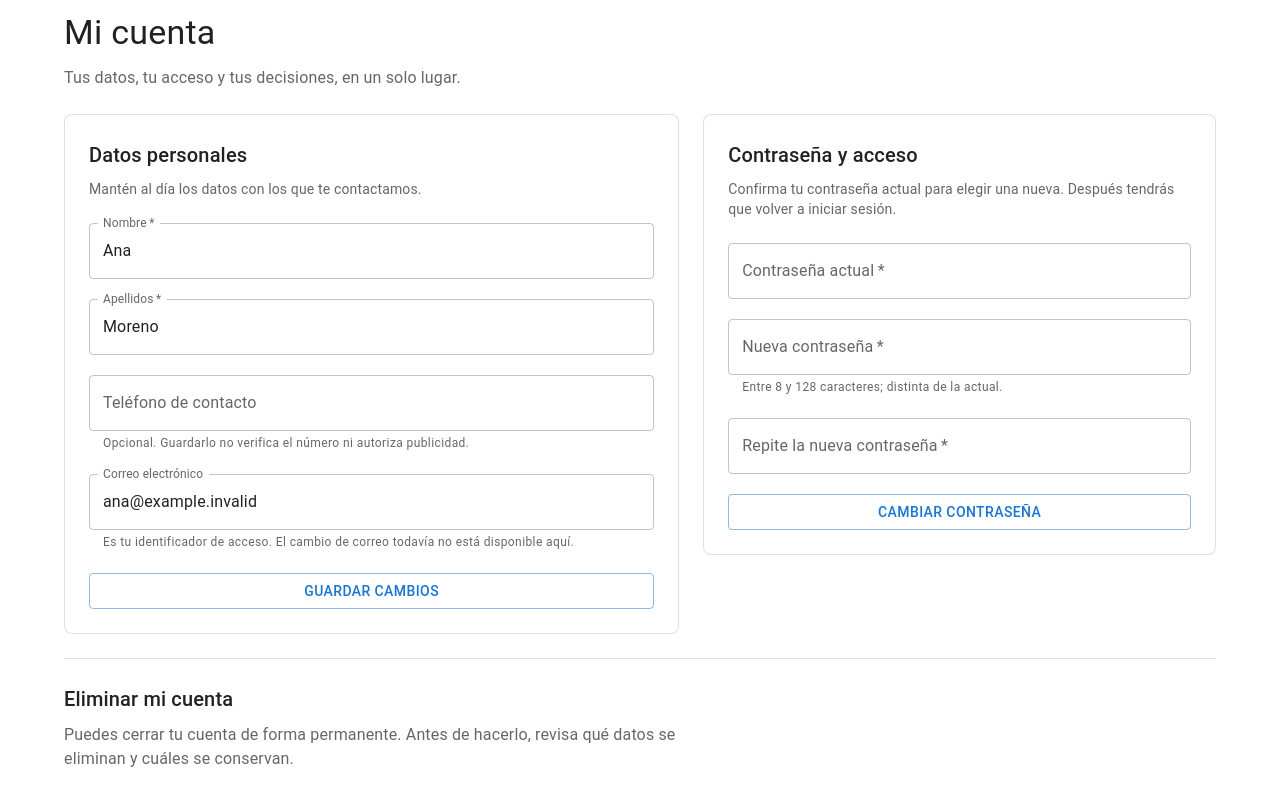
Test case: saves typed profile data and updates session display
Replace the text in the field labelled "Nombre" with "Diana" at (372, 251), box left=89, top=223, right=654, bottom=279
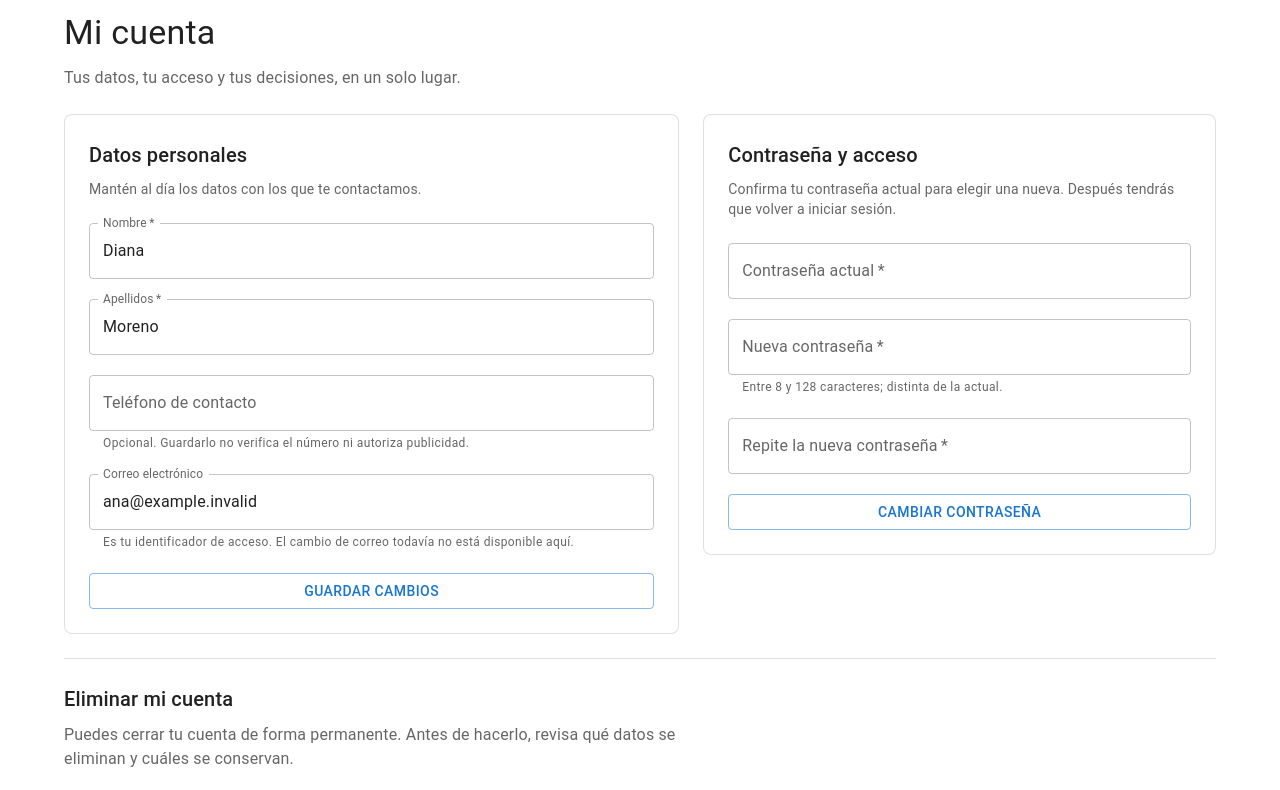
Click the button "Guardar cambios" at (372, 591), box left=89, top=573, right=654, bottom=609
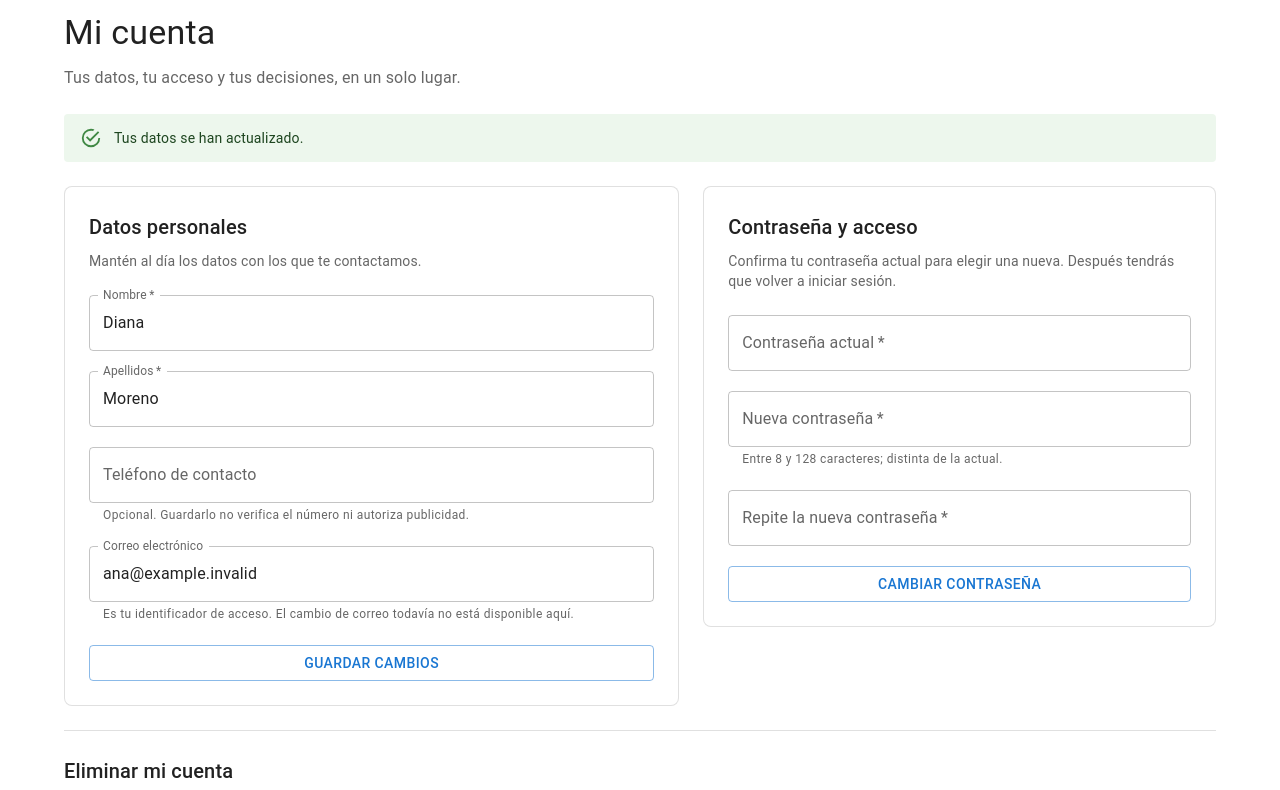
Now the text "Tus datos se han actualizado." is shown, box left=114, top=130, right=304, bottom=146
